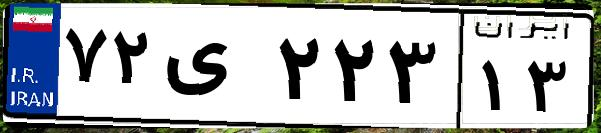1: (475, 38, 525, 113)
2: (270, 28, 330, 110), (330, 28, 385, 110), (110, 28, 158, 98)
3: (385, 28, 445, 110), (525, 38, 570, 115)
7: (57, 26, 110, 100)
ی: (158, 20, 270, 120)
